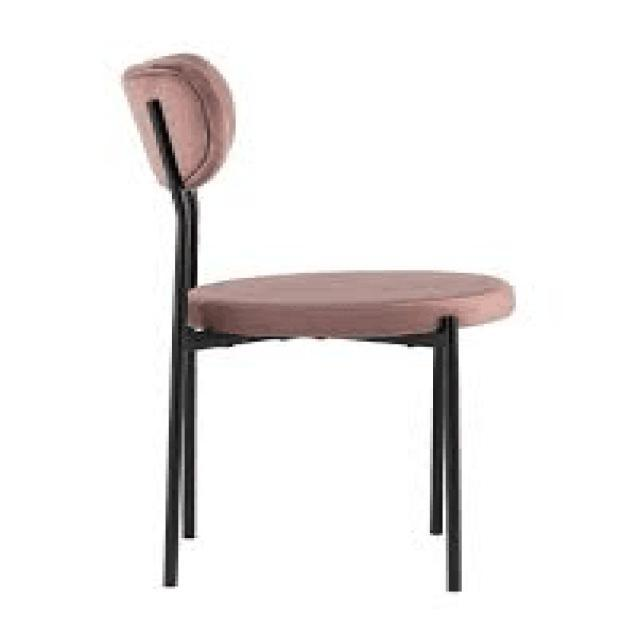chair: (114, 43, 526, 593), (136, 48, 516, 331)
